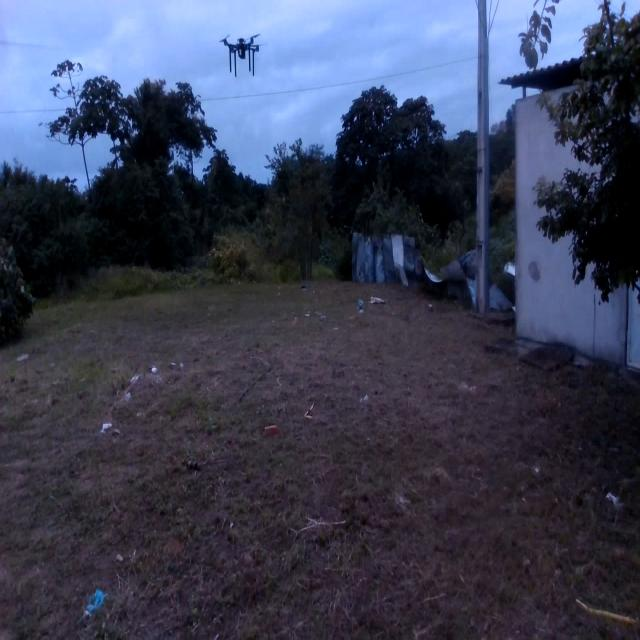-uav-: (210, 13, 272, 86)
